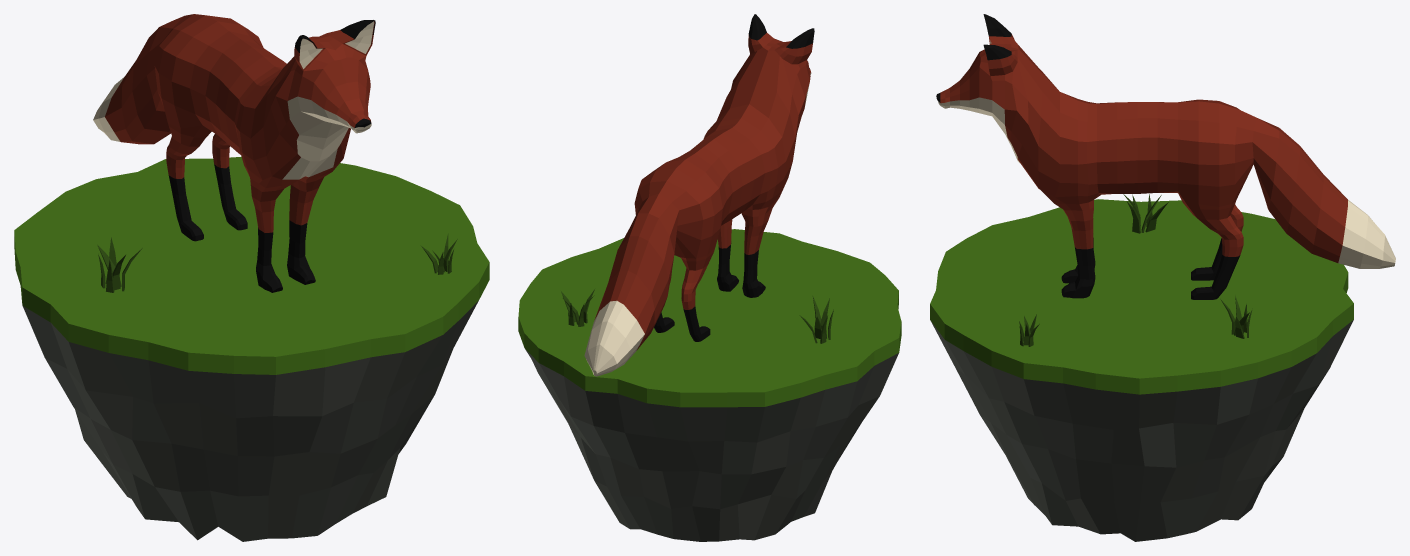
The model's file is LowPolyFox.obj.
3 renders of one model, left to right at view 1: azimuth 30°, elevation 25°; view 2: azimuth 150°, elevation 25°; view 3: azimuth 270°, elevation 25°, orthographic. The views are drawn at different scales.
Visible parts, largest first — view 1: Terrain, Cube, Plane; view 2: Terrain, Cube, Plane, Plane.002; view 3: Terrain, Cube, Plane, Plane.002.
Part boxes in pixels (<box>): Terrain: <box>14,156,489,541</box>; Cube: <box>93,14,375,292</box>; Plane: <box>97,237,142,292</box>; Terrain: <box>518,229,901,541</box>; Cube: <box>584,14,814,376</box>; Plane: <box>799,295,833,343</box>; Plane.002: <box>561,289,594,326</box>; Terrain: <box>930,199,1353,541</box>; Cube: <box>936,14,1395,299</box>; Plane: <box>1123,194,1168,233</box>; Plane.002: <box>1220,295,1252,338</box>.
Size of the model in its own units: 2.02 by 2.44 by 2.21.
